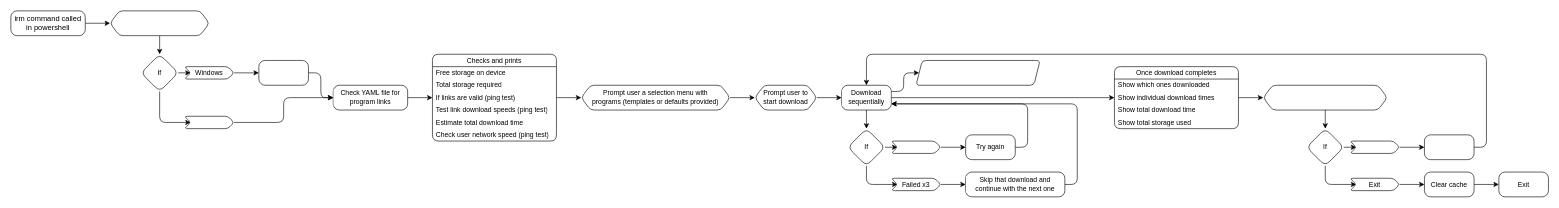
This 1559x208 diagram has some shape labels left out. The centre of each missing label's shape, as x and y in pixels:
"Check failed downloads list" goes at (1449,147).
"Check for and install winget" goes at (283,72).
"Failed" goes at (916,146).
"Linux" goes at (209,122).
"Prompt user if they want to retry the failed downloads or exit" goes at (1325,97).
"Prompt user to start script in elevated powershell" goes at (159,23).
"Retry" goes at (1374,146).
"Show loading bar and download progression and status" goes at (977,72).
